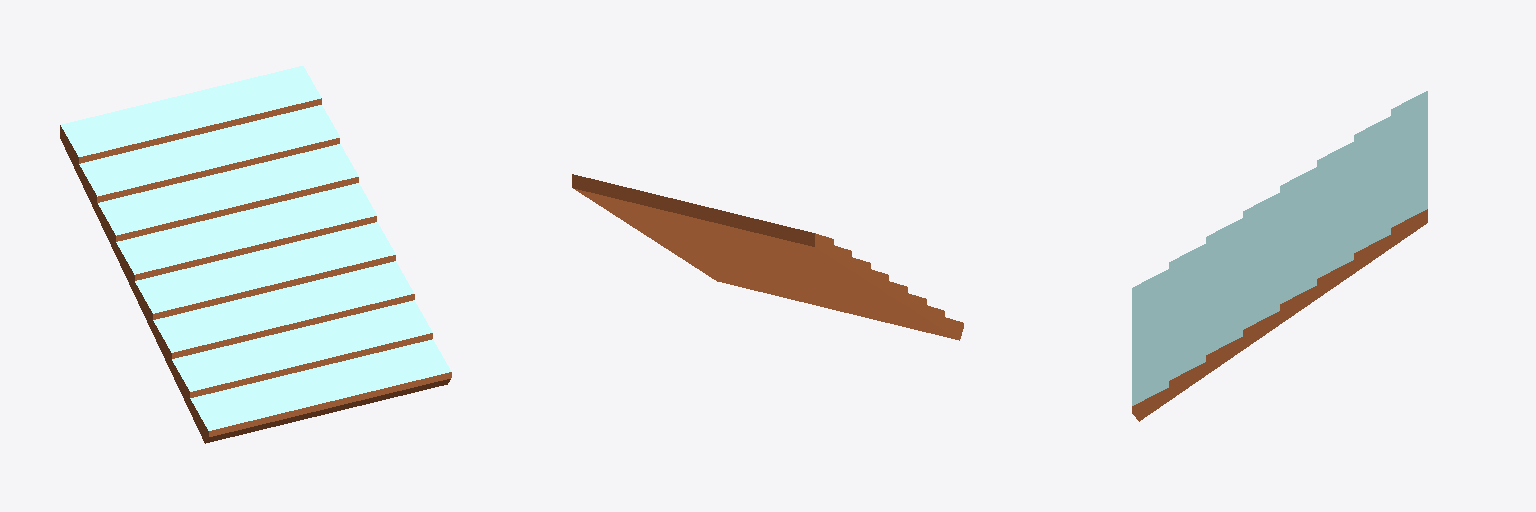
File: cabinRoof.obj
The picture shows the model from 3 angles: view 1: azimuth 30°, elevation 25°; view 2: azimuth 150°, elevation 25°; view 3: azimuth 270°, elevation 25°; orthographic projection.
Visible parts, largest first — view 1: cabinRoof; view 2: cabinRoof; view 3: cabinRoof.
Boxes of the visible parts, box(x1,y1,x2,y2) form: cabinRoof: box(60, 66, 451, 443); cabinRoof: box(572, 174, 963, 340); cabinRoof: box(1132, 91, 1427, 421).
Bounding box in the file's own units: 1.14 × 0.9559 × 1.21.